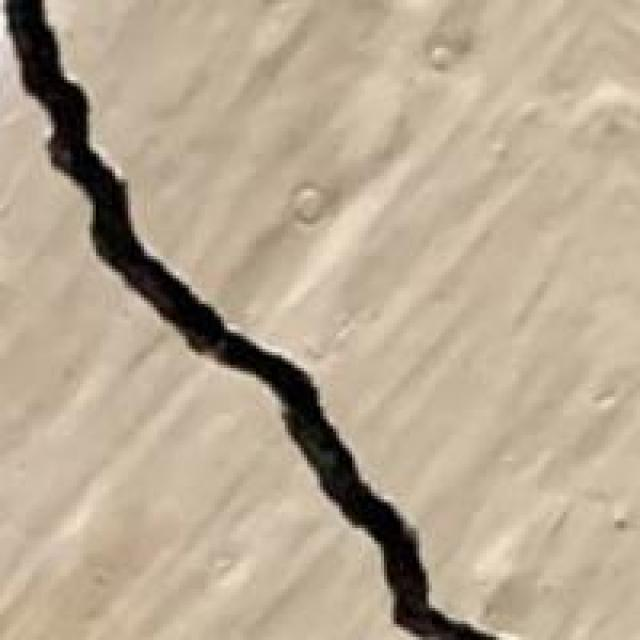Crack: (0, 0, 499, 637)
